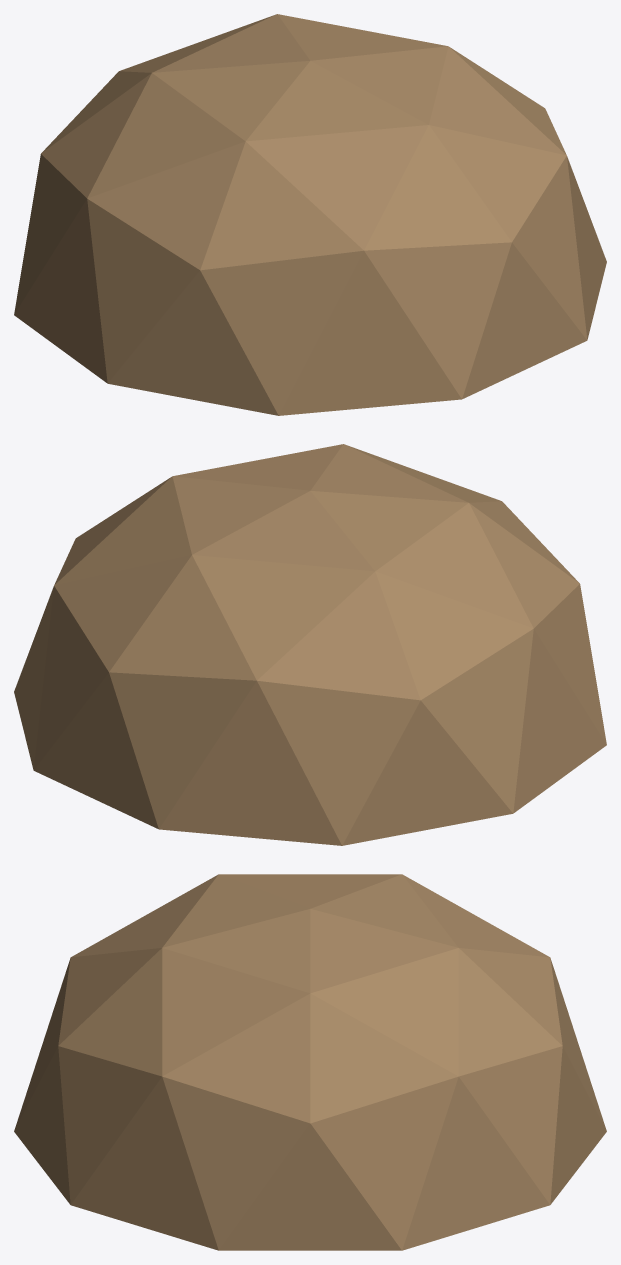
File: stone.glb
The picture shows the model from 3 angles, top to bottom: view 1: azimuth 30°, elevation 25°; view 2: azimuth 150°, elevation 25°; view 3: azimuth 270°, elevation 25°; orthographic projection. The views are drawn at different scales.
Parts seen in each view (by area): view 1: Icosphere; view 2: Icosphere; view 3: Icosphere.
Boxes of the visible parts, <box> form: Icosphere: <box>14,14,606,415</box>; Icosphere: <box>14,444,606,845</box>; Icosphere: <box>14,874,606,1250</box>.
Bounding box in the file's own units: 2.85 × 1.24 × 3.
